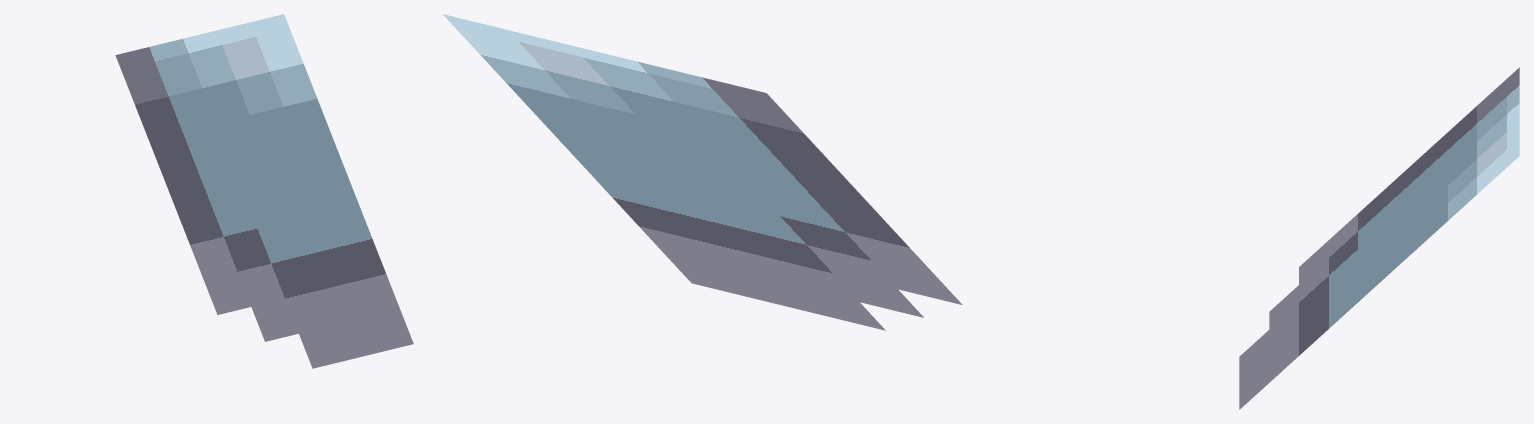
3 views of the same model, side by side, from view 1: azimuth 30°, elevation 25°; view 2: azimuth 150°, elevation 25°; view 3: azimuth 270°, elevation 25° (orthographic). The views are drawn at different scales.
Bounding box in the file's own units: 0.5 × 0.416 × 0.416.
1 material, 1 textured.
